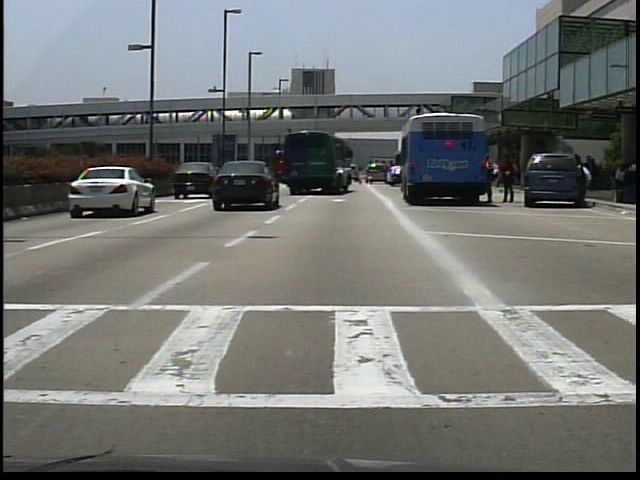person: (499, 156, 515, 203), (485, 153, 500, 203), (577, 161, 595, 202)
